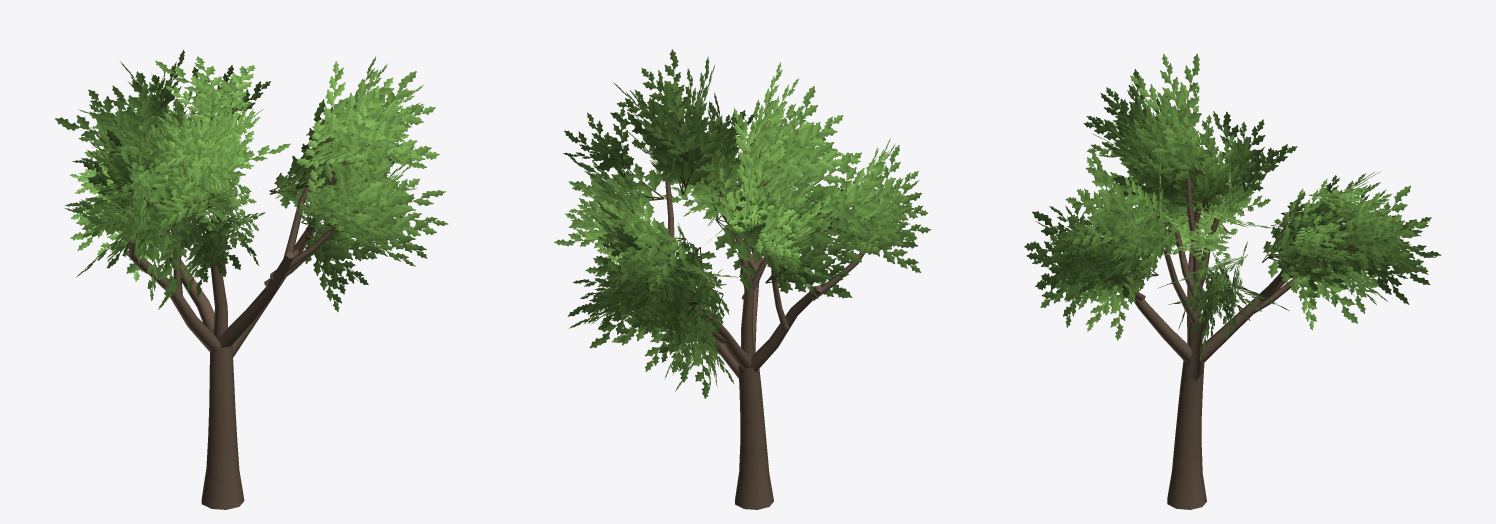
File: oak_1_mid.glb
3 views of the same model, side by side, from view 1: azimuth 30°, elevation 25°; view 2: azimuth 150°, elevation 25°; view 3: azimuth 270°, elevation 25° (orthographic). The views are drawn at different scales.
Parts seen in each view (by area): view 1: oak_1_mid; view 2: oak_1_mid; view 3: oak_1_mid.
Part boxes in pixels (<box>): oak_1_mid: <box>55,50,448,509</box>; oak_1_mid: <box>554,49,930,509</box>; oak_1_mid: <box>1024,53,1441,509</box>.
Size of the model in its own units: 9.79 by 11.03 by 10.45.
2 materials, 1 textured.
